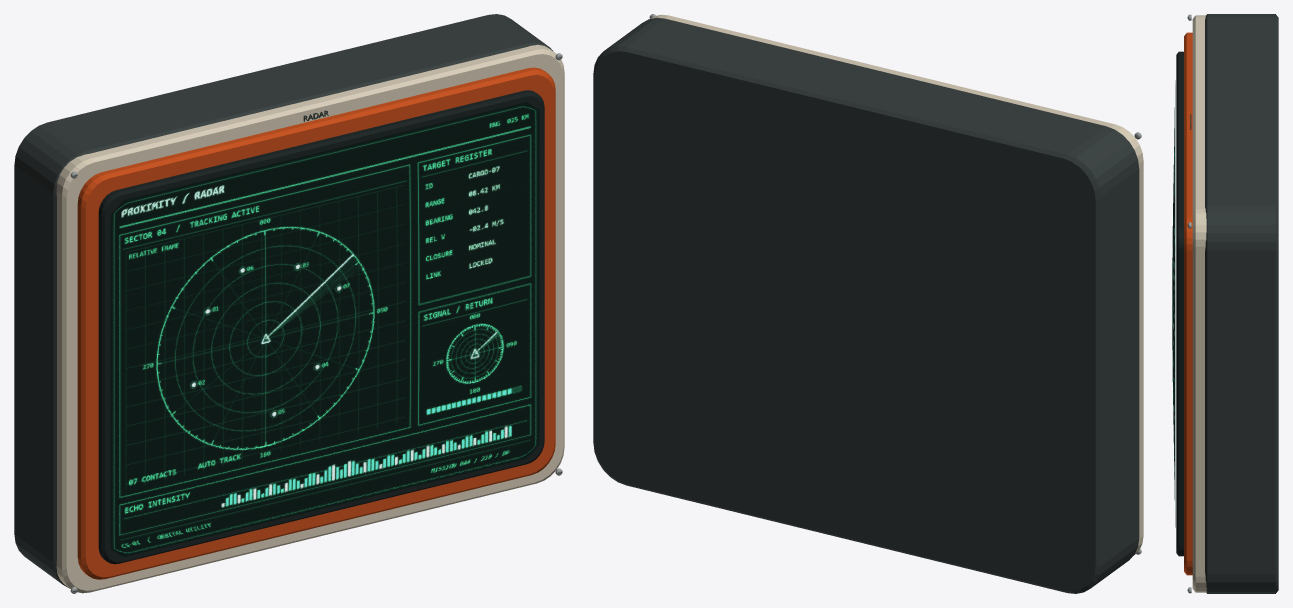
File: Screen_RADAR.glb
3 renders of one model, left to right at view 1: azimuth 30°, elevation 25°; view 2: azimuth 150°, elevation 25°; view 3: azimuth 270°, elevation 25°, orthographic. The views are drawn at different scales.
Parts seen in each view (by area): view 1: SCREEN_RADAR.004, RADAR_Body.004, RADAR_SafetyOrange.004, RADAR_Enamel.004, RADAR_RubberSeal.004; view 2: RADAR_Body.004, RADAR_Enamel.004; view 3: RADAR_Body.004, RADAR_Enamel.004, RADAR_SafetyOrange.004, RADAR_RubberSeal.004, SCREEN_RADAR.004.
Boxes of the visible parts, left/top/right/bottom form: SCREEN_RADAR.004: left=110, top=102, right=539, bottom=557; RADAR_Body.004: left=14, top=14, right=552, bottom=588; RADAR_SafetyOrange.004: left=77, top=67, right=555, bottom=579; RADAR_Enamel.004: left=56, top=44, right=564, bottom=593; RADAR_RubberSeal.004: left=98, top=90, right=544, bottom=564; RADAR_Body.004: left=593, top=17, right=1139, bottom=593; RADAR_Enamel.004: left=650, top=14, right=1143, bottom=555; RADAR_Body.004: left=1205, top=14, right=1278, bottom=593; RADAR_Enamel.004: left=1192, top=15, right=1206, bottom=592; RADAR_SafetyOrange.004: left=1184, top=32, right=1192, bottom=575; RADAR_RubberSeal.004: left=1176, top=51, right=1183, bottom=556; SCREEN_RADAR.004: left=1172, top=80, right=1175, bottom=527.
Size of the model in its own units: 0.691 by 0.571 by 0.143.
Materials: 7 (1 with a texture image).
